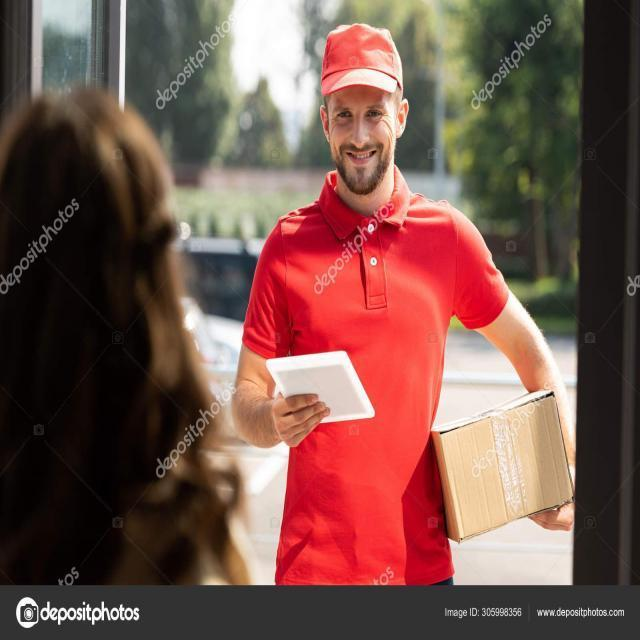box: (434, 377, 576, 552)
